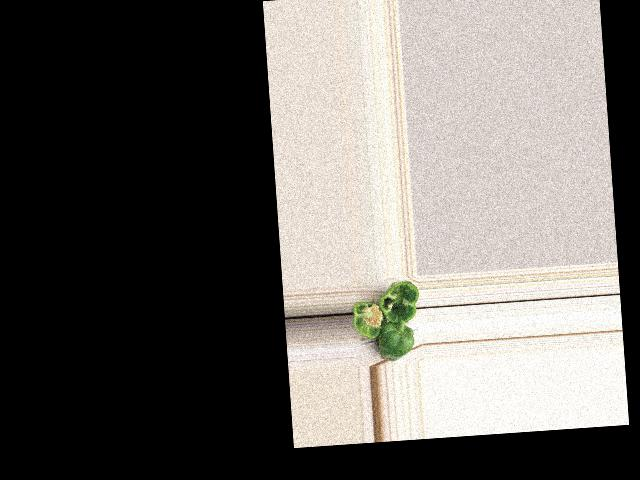bell_pepper: (351, 292, 387, 342)
